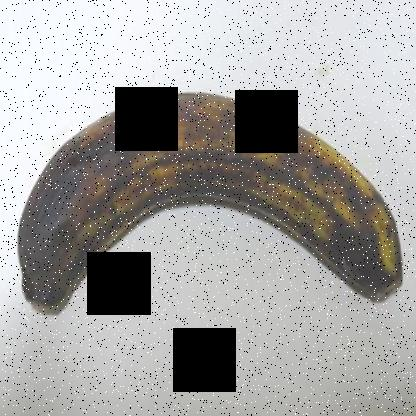overripe: (12, 82, 413, 344)
